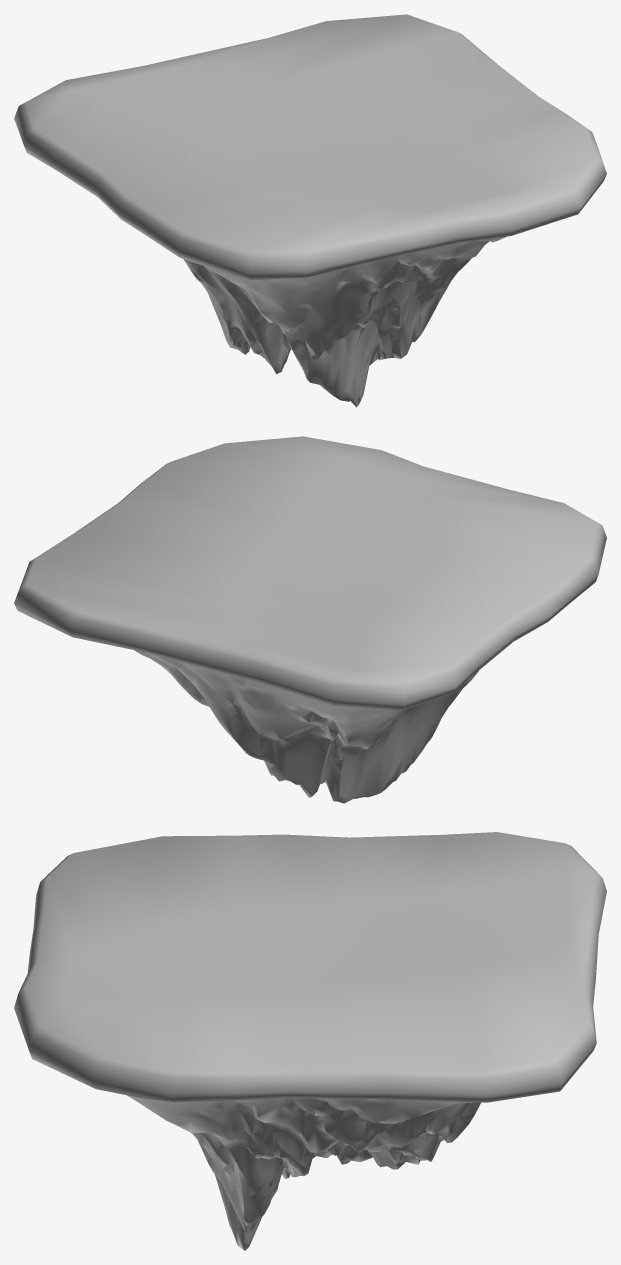
The model's file is Island Square.fbx.
The picture shows the model from 3 angles, top to bottom: view 1: azimuth 30°, elevation 25°; view 2: azimuth 150°, elevation 25°; view 3: azimuth 270°, elevation 25°; orthographic projection. The views are drawn at different scales.
Parts seen in each view (by area): view 1: Island Square_Baked; view 2: Island Square_Baked; view 3: Island Square_Baked.
Boxes of the visible parts, left/top/right/bottom form: Island Square_Baked: left=14, top=14, right=606, bottom=407; Island Square_Baked: left=14, top=436, right=606, bottom=803; Island Square_Baked: left=14, top=832, right=606, bottom=1250.
Size of the model in its own units: 10020 by 5562 by 10121.
1 material, 1 textured.
